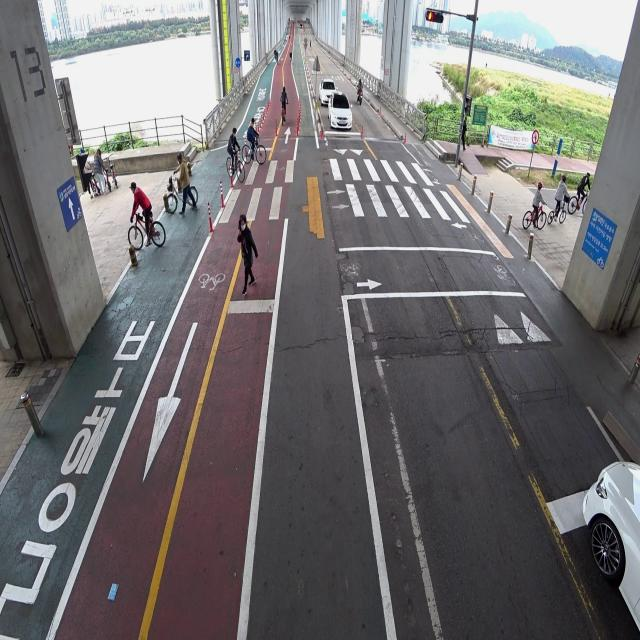Car: (565, 429, 640, 640), (326, 89, 354, 131), (315, 70, 338, 108)
Motorcycle: (356, 77, 364, 106)
